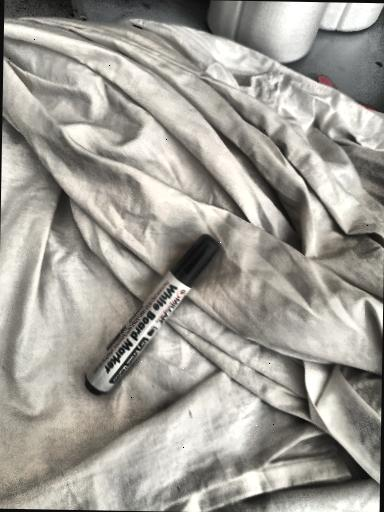marcador negro: (85, 235, 220, 395)
